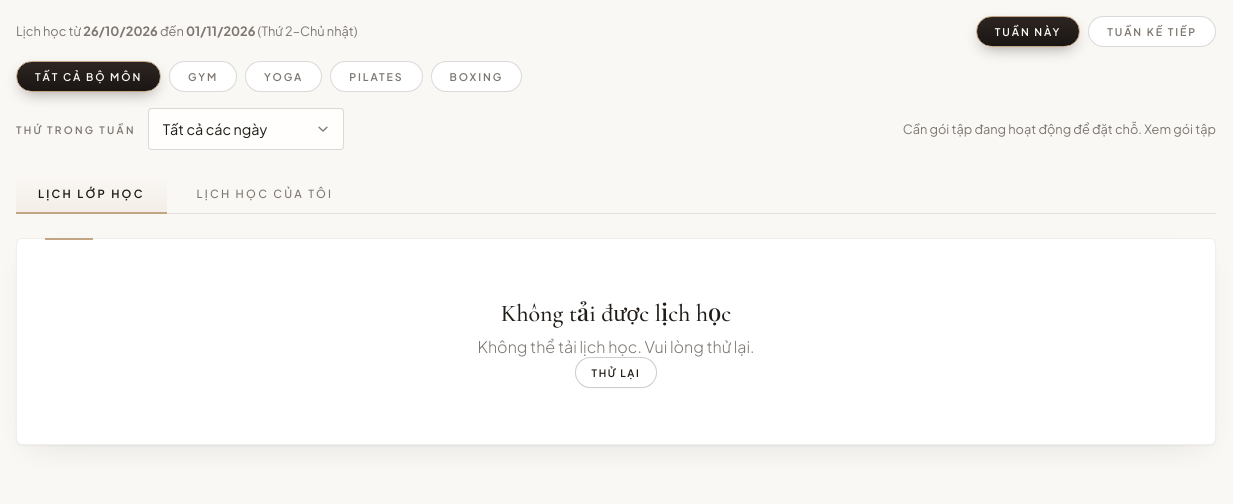
MemberClassesPage › shows an error and retries the backend request
What coordinates should you click on to do the following:
click the button "Thử lại"
I would click on:
 (616, 372)
Its box is [574,357,657,388].
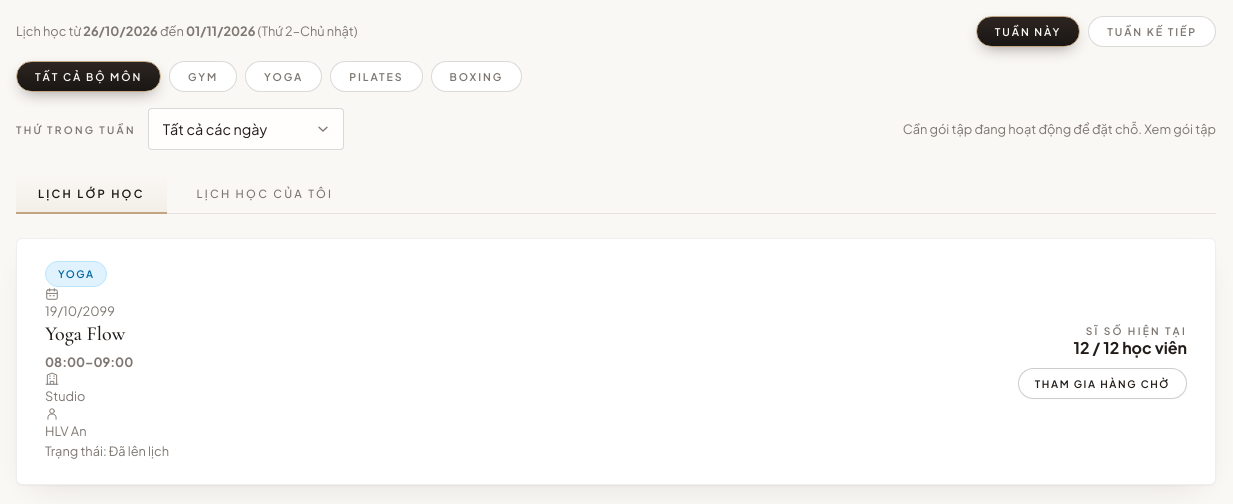
Now the text "Yoga Flow" is shown, box [45,322,125,346]
